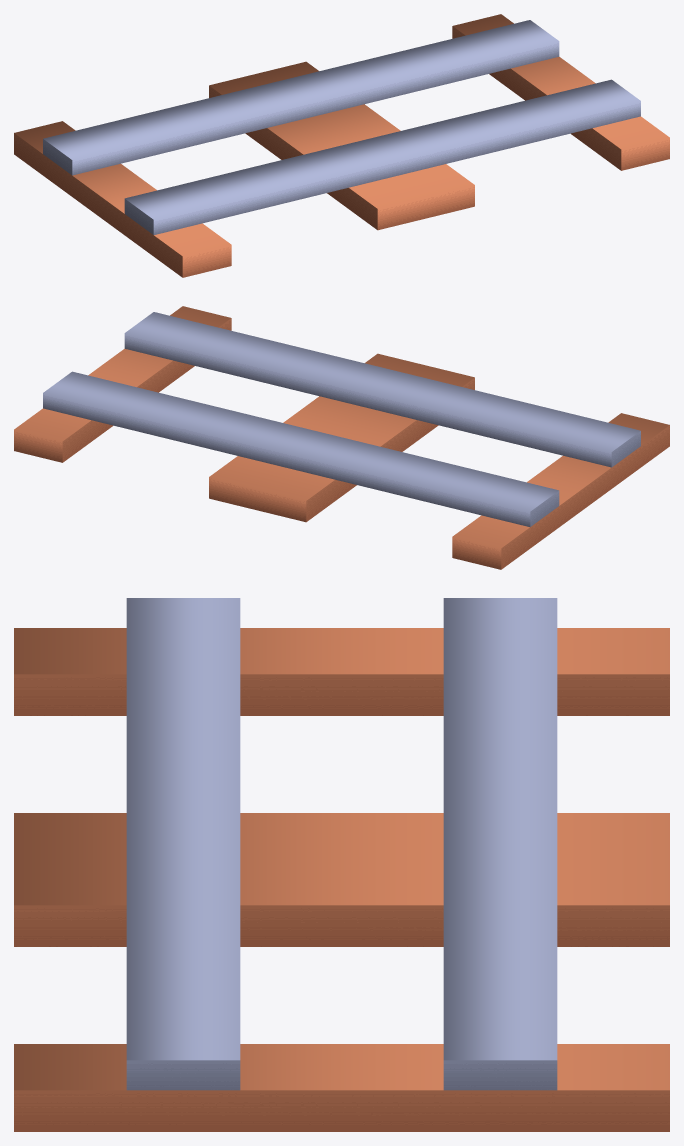
File: trainset_rail_detailed_straight.glb
3 views of the same model, one above another, from view 1: azimuth 30°, elevation 25°; view 2: azimuth 150°, elevation 25°; view 3: azimuth 270°, elevation 25° (orthographic). The views are drawn at different scales.
Parts seen in each view (by area): view 1: trainset-rail-detailed-straight; view 2: trainset-rail-detailed-straight; view 3: trainset-rail-detailed-straight.
Part boxes in pixels (x1,y1,x2,y2): trainset-rail-detailed-straight: (14,14,669,277); trainset-rail-detailed-straight: (14,306,669,569); trainset-rail-detailed-straight: (14,598,669,1131).
Bounding box in the file's own units: 0.5 × 0.0362 × 0.3.
1 material, 1 textured.
